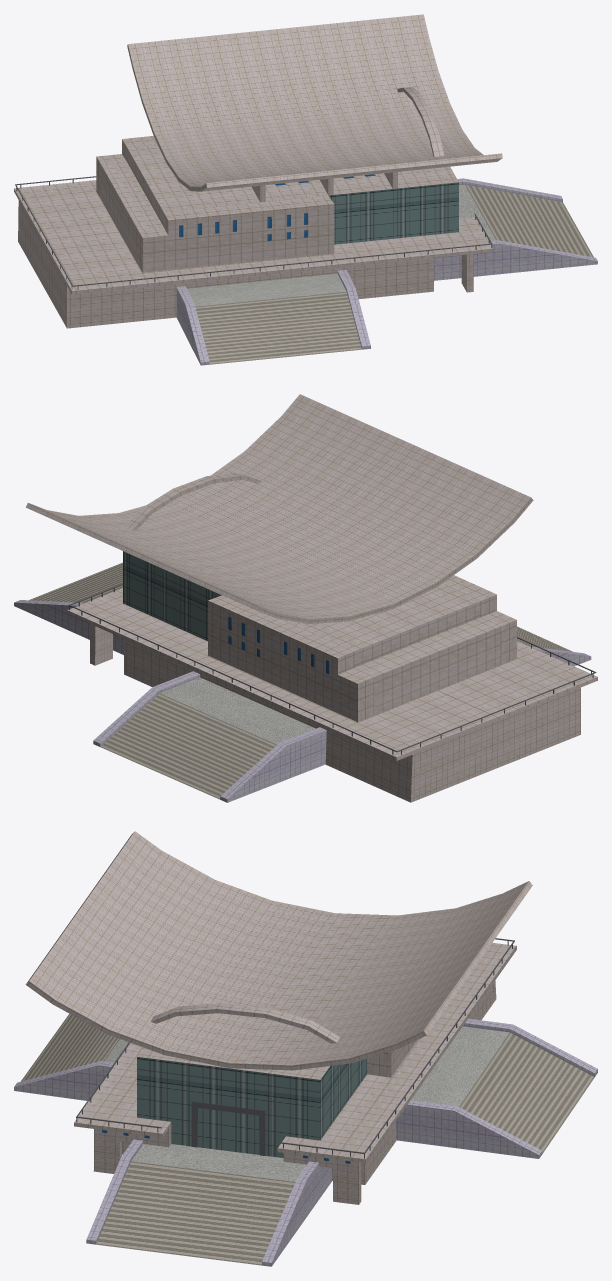
File: China_track_landmark_03.dae
The picture shows the model from 3 angles, top to bottom: view 1: azimuth 30°, elevation 25°; view 2: azimuth 150°, elevation 25°; view 3: azimuth 270°, elevation 25°; orthographic projection. The views are drawn at different scales.
Parts seen in each view (by area): view 1: China_track_landmark_03; view 2: China_track_landmark_03; view 3: China_track_landmark_03.
Boxes of the visible parts, box(x1,y1,x2,y2) form: China_track_landmark_03: box(14, 14, 597, 365); China_track_landmark_03: box(14, 394, 597, 802); China_track_landmark_03: box(14, 831, 597, 1266).
Bounding box in the file's own units: 8.04 × 6.57 × 2.38.
7 materials, 7 textured.
